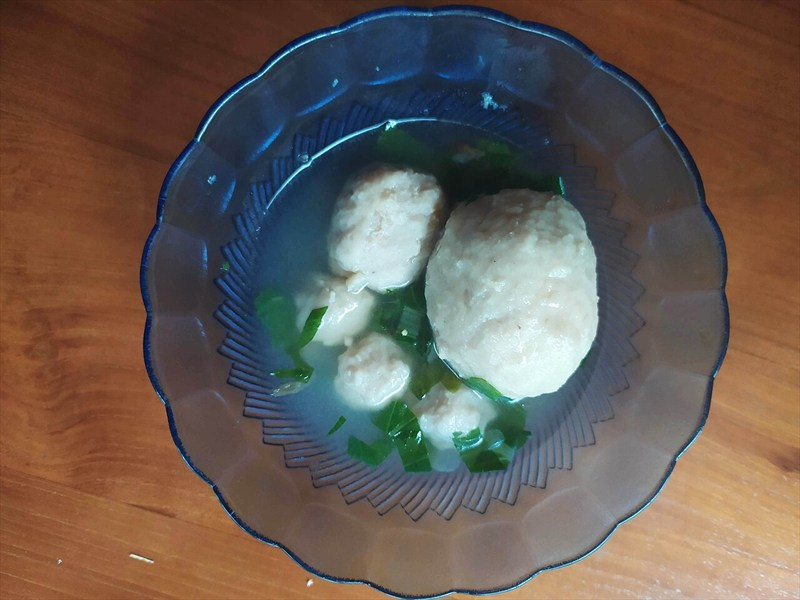Bakso: (217, 74, 628, 501)
